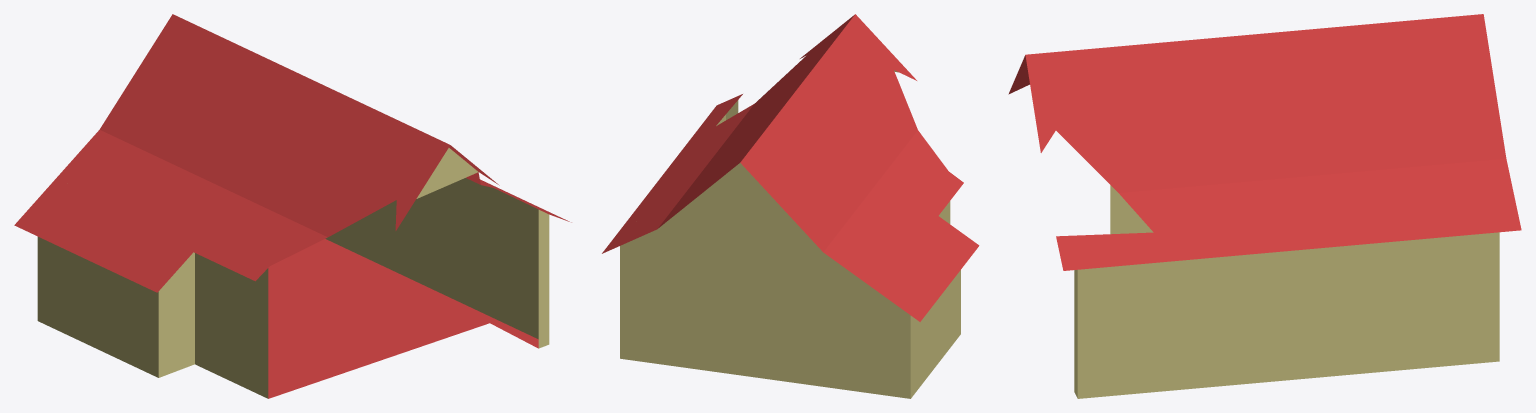
The picture shows the model from 3 angles, left to right: view 1: azimuth 30°, elevation 25°; view 2: azimuth 150°, elevation 25°; view 3: azimuth 270°, elevation 25°; orthographic projection. The views are drawn at different scales.
Bounding box in the file's own units: 27.47 × 27.58 × 16.43.
